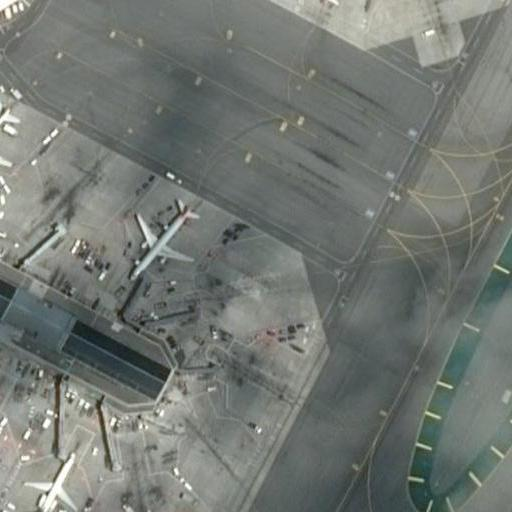Aircraft: (122, 197, 202, 282), (29, 445, 84, 512), (0, 97, 26, 186), (0, 388, 12, 481)
